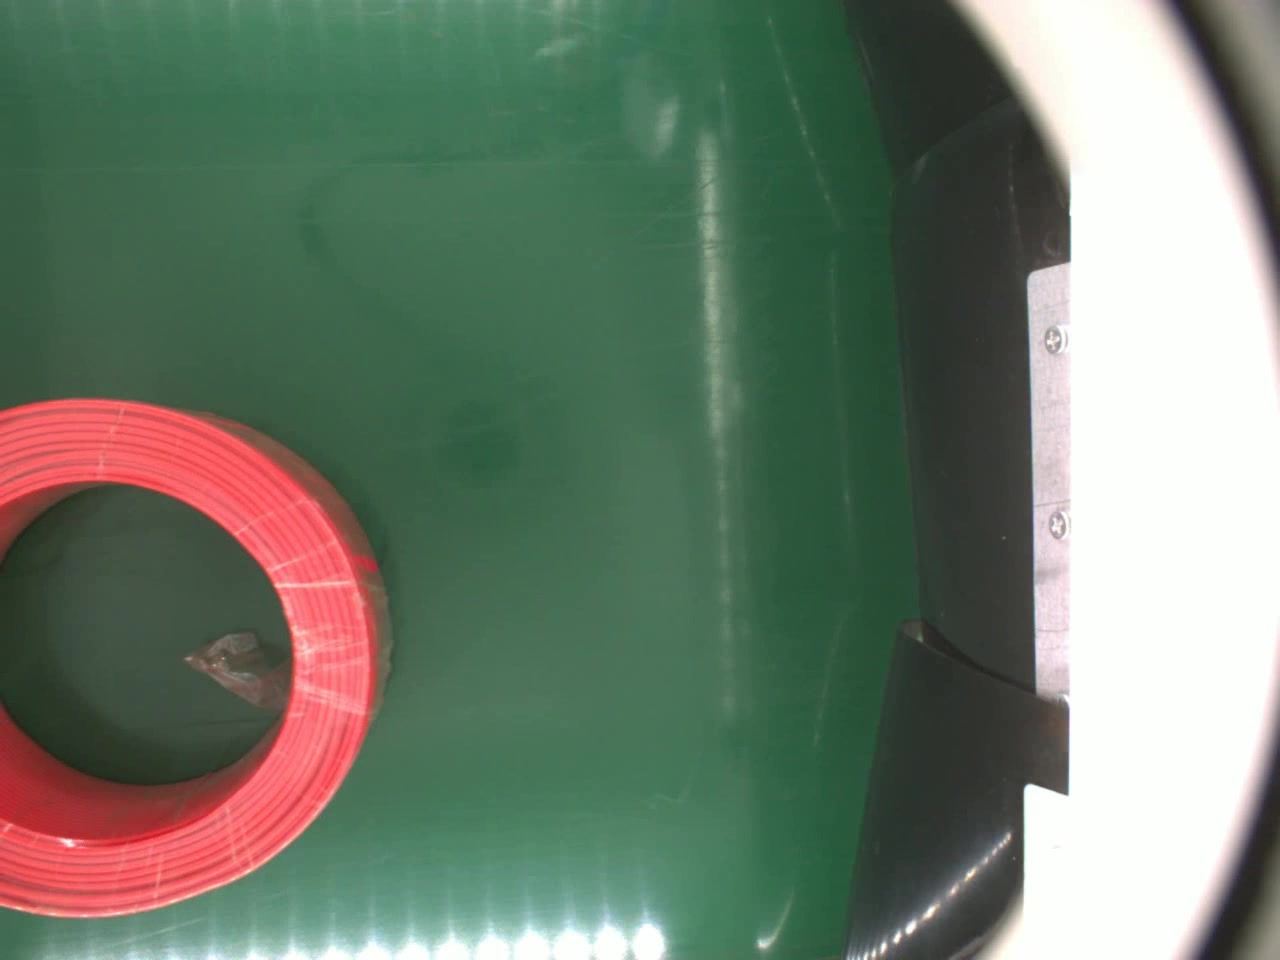red: (0, 397, 392, 917)
